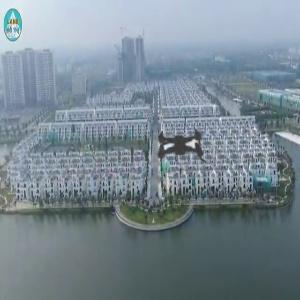drone: (120, 87, 237, 204)
